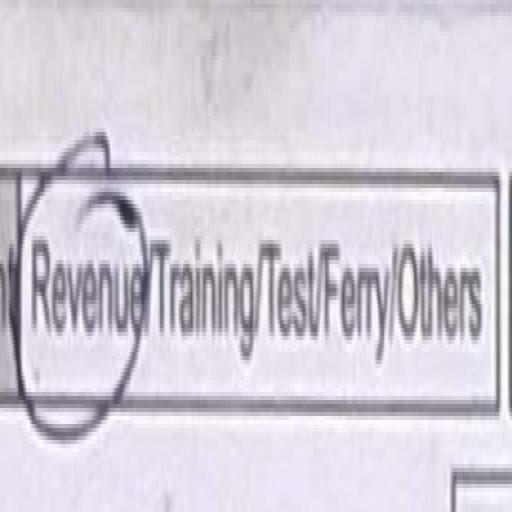check: (15, 101, 145, 437)
